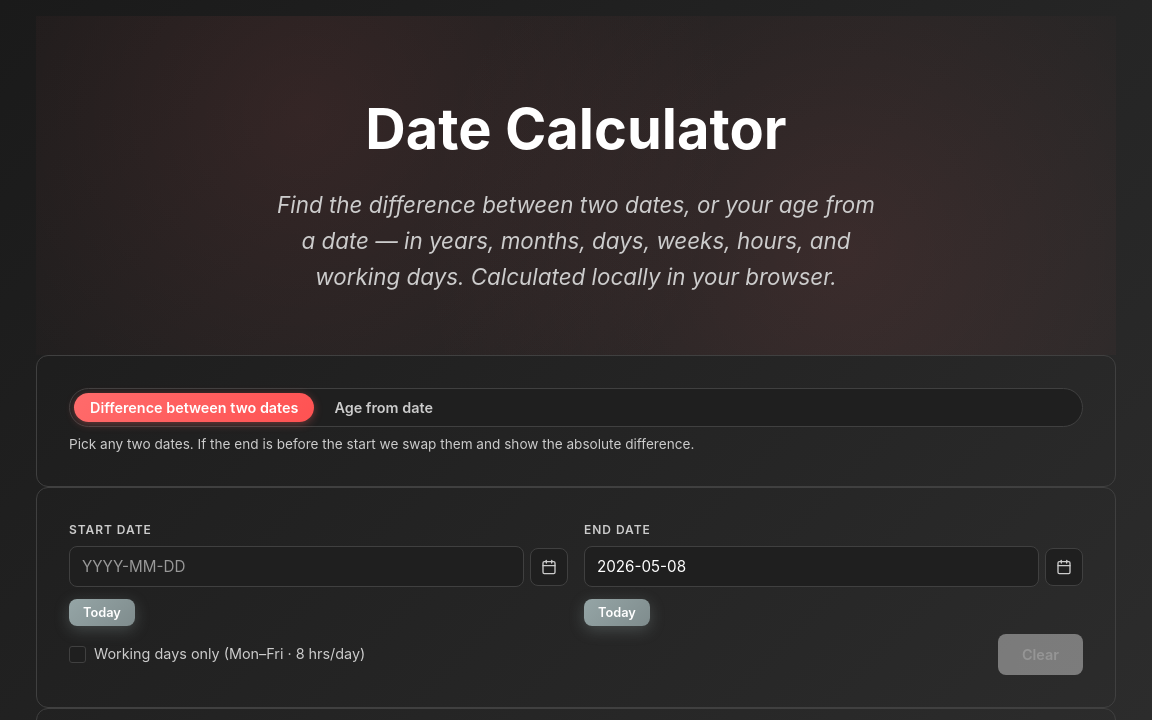
<DateCalculator /> — Today buttons › End "Today" button sets end date to today
Replace the text in the field labelled "End date" with "2020-01-01". click: coordinates (811, 566)
box: [584,546,1039,587]
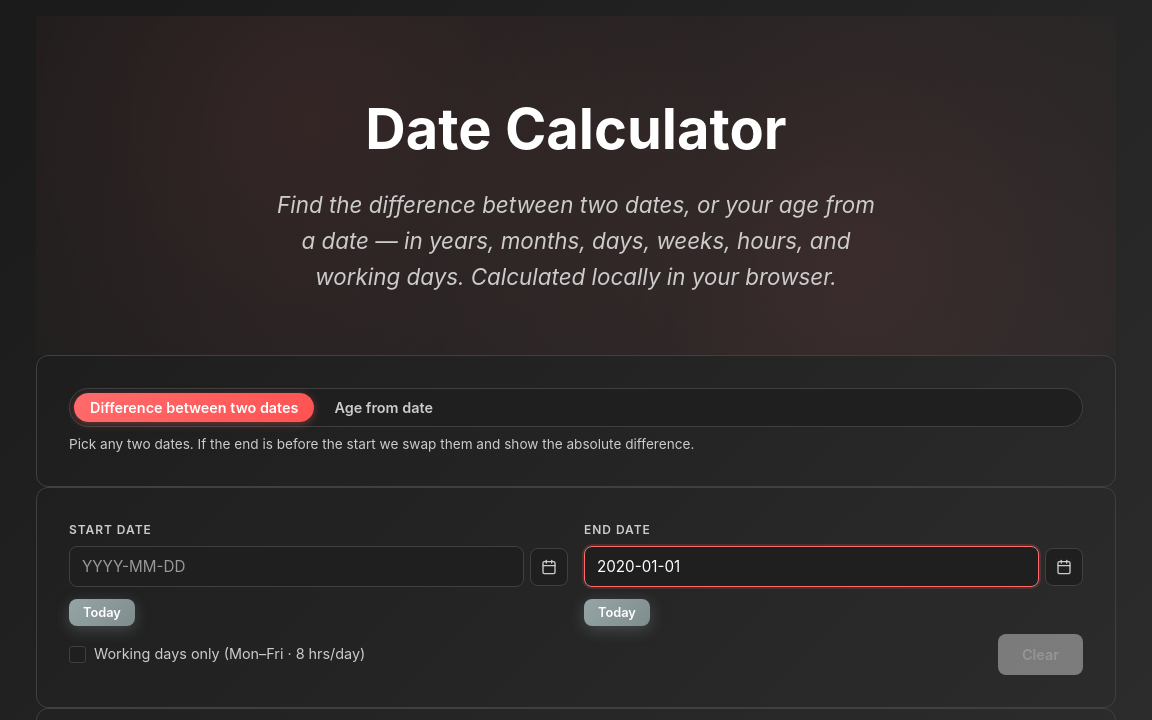
Press Tab
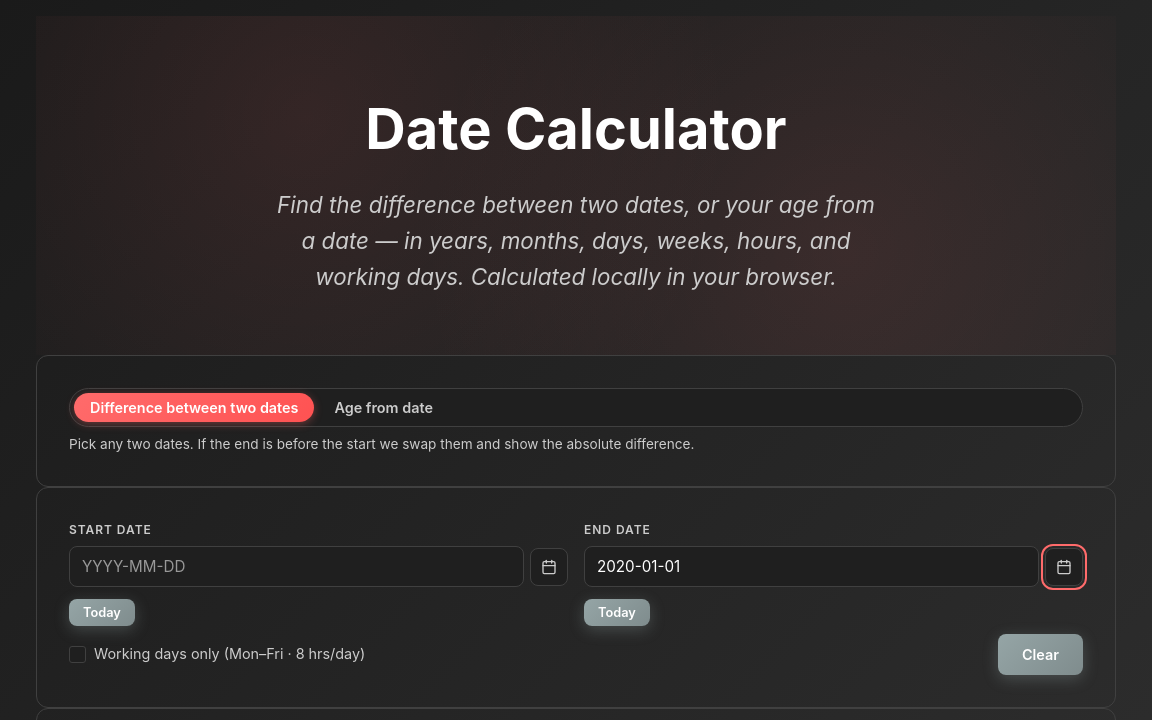
Click the button "Today" below "End date". click: coordinates (617, 612)
box: [584,599,650,626]
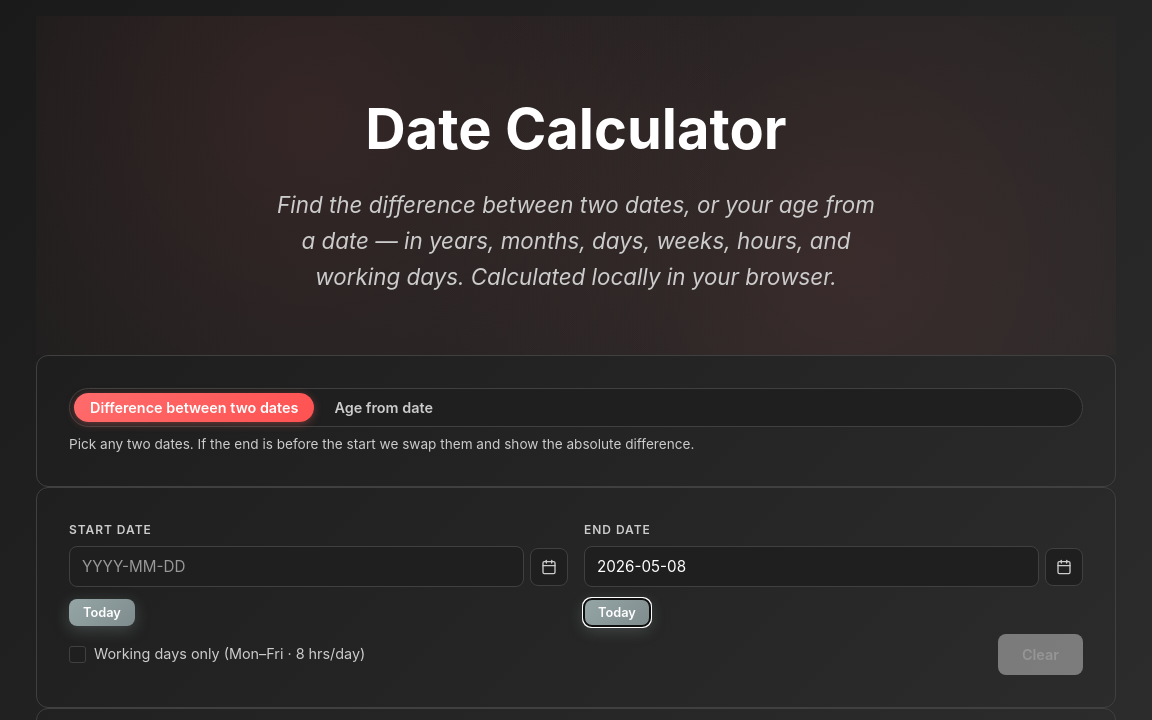
Expected: the field labelled "End date" holds "2026-05-08", [584,546,1039,587]
